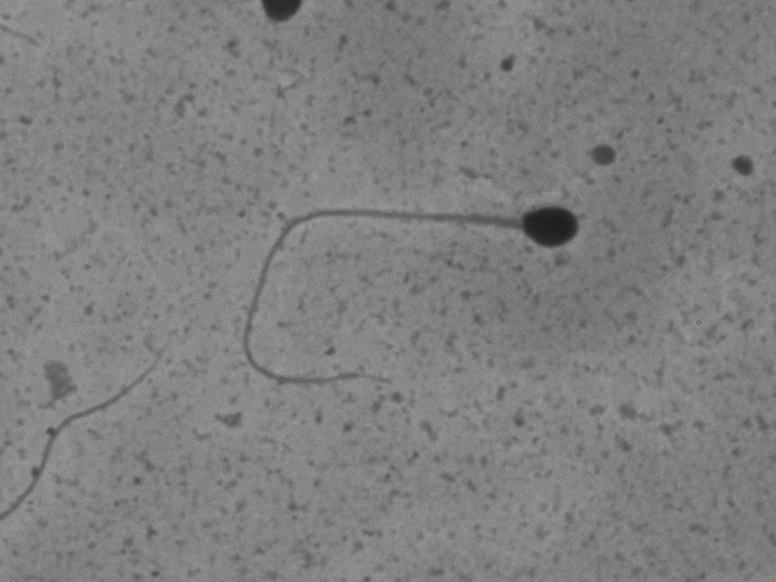Abnormal: (182, 159, 596, 414)
